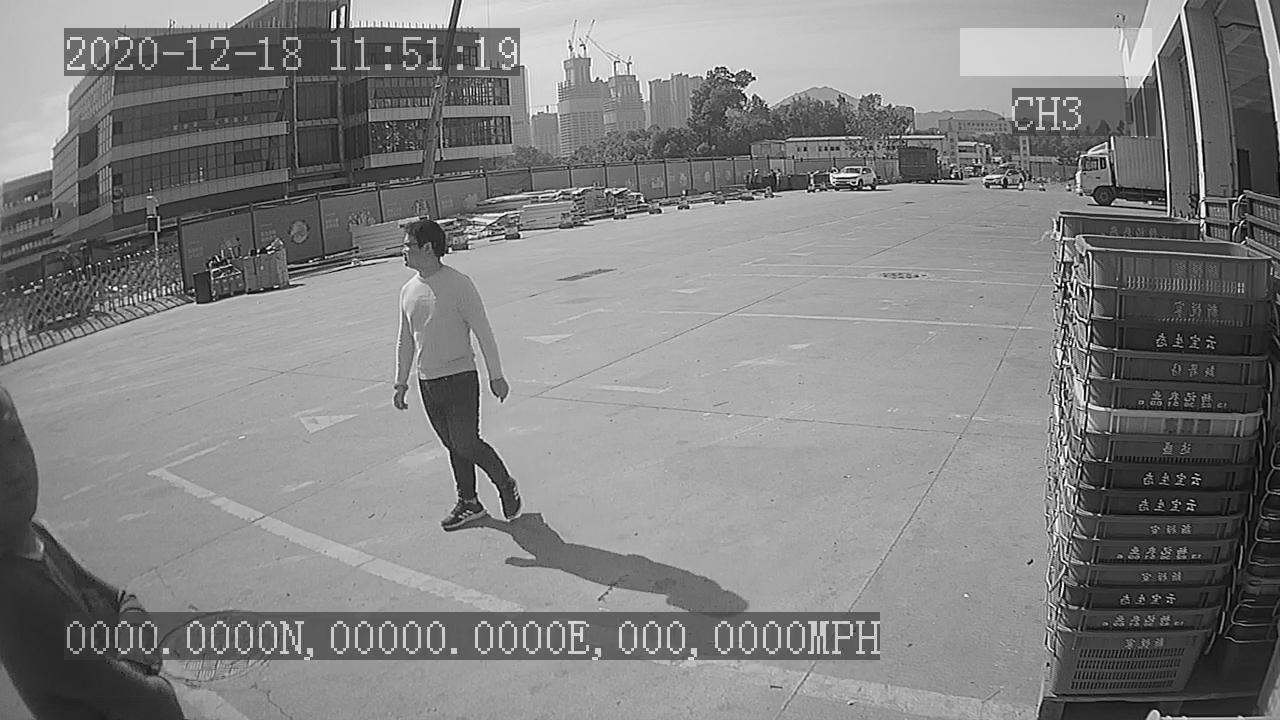person: (384, 215, 527, 533)
